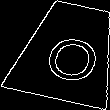O_N: (35, 22, 102, 82)
